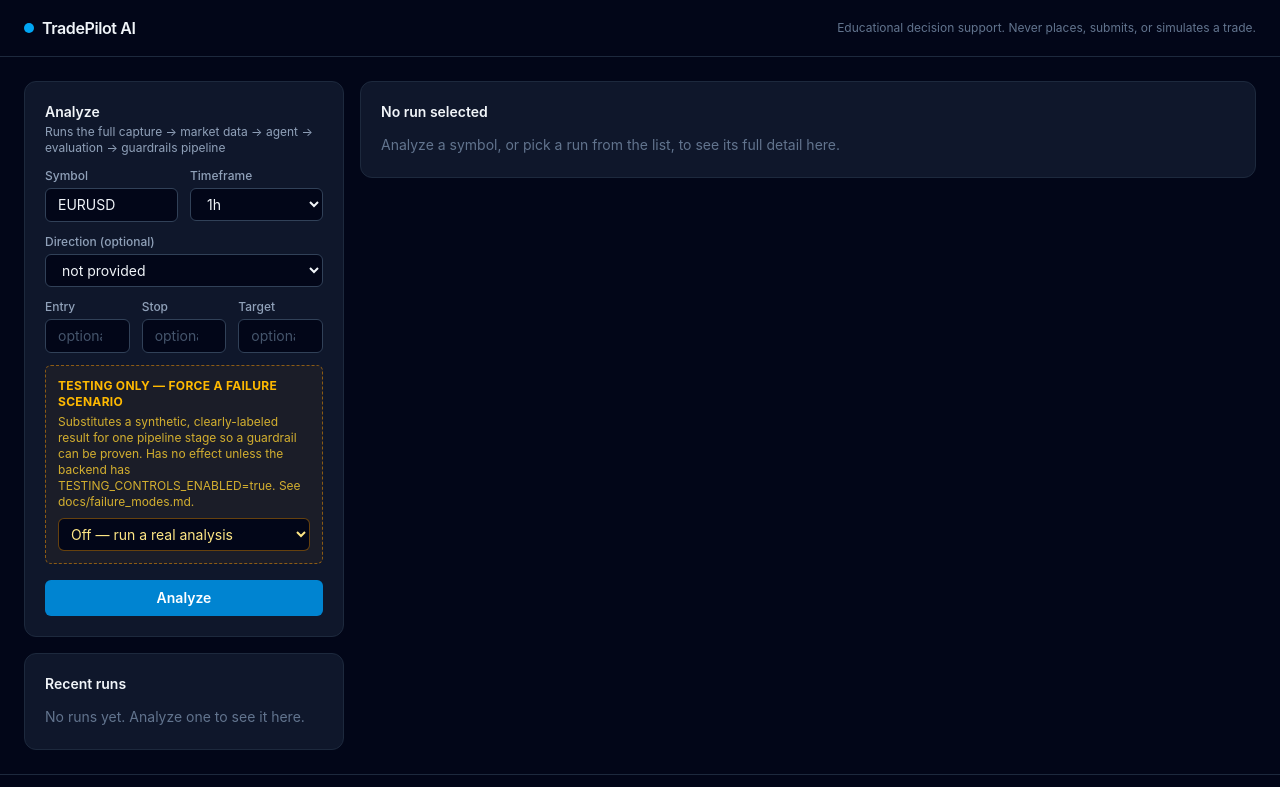
Scenario: App › Milestone 12: choosing a testing scenario sends force_scenario and shows the unmistakable testing banner
Select "Capture fails" in the dropdown named "force a testing scenario". click: (184, 534)
box: x1=58 y1=518 x2=310 y2=551
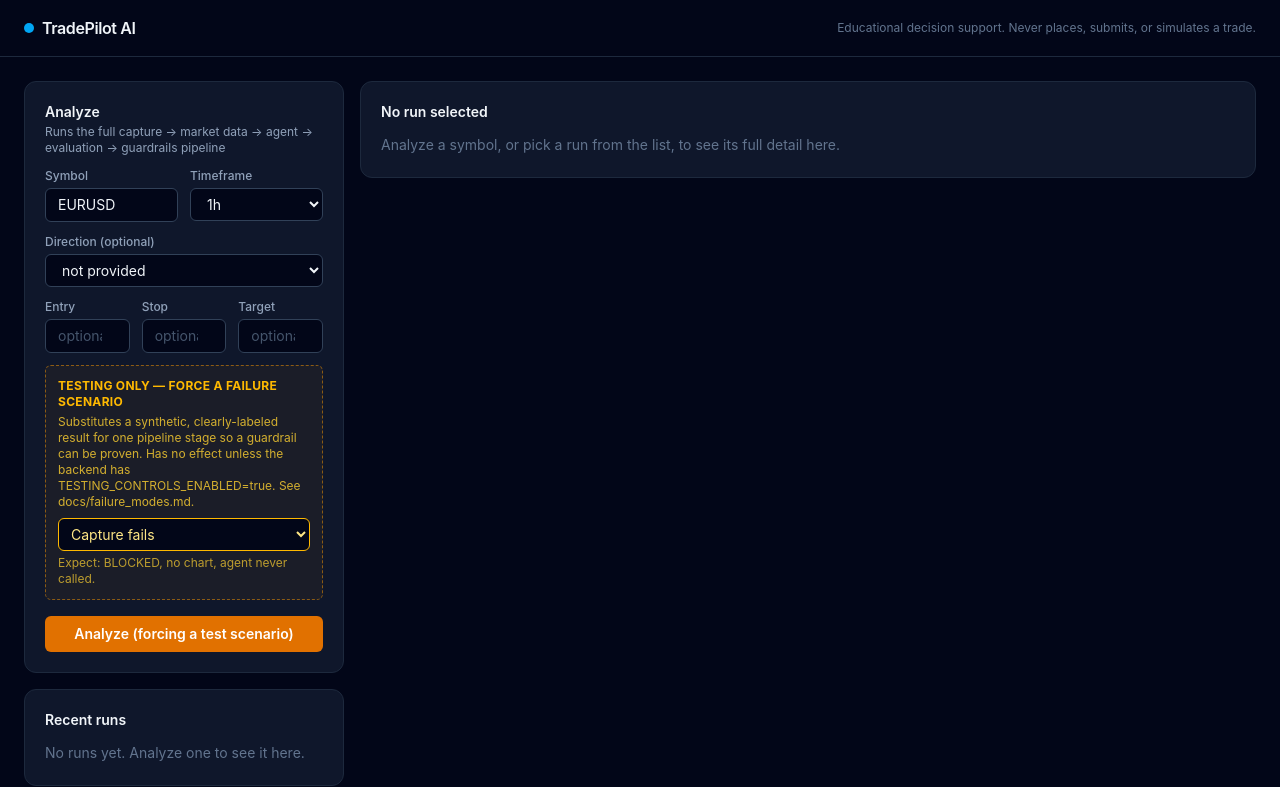
Click the button "Analyze (forcing a test scenario)". click: (184, 634)
box: x1=45 y1=616 x2=323 y2=652
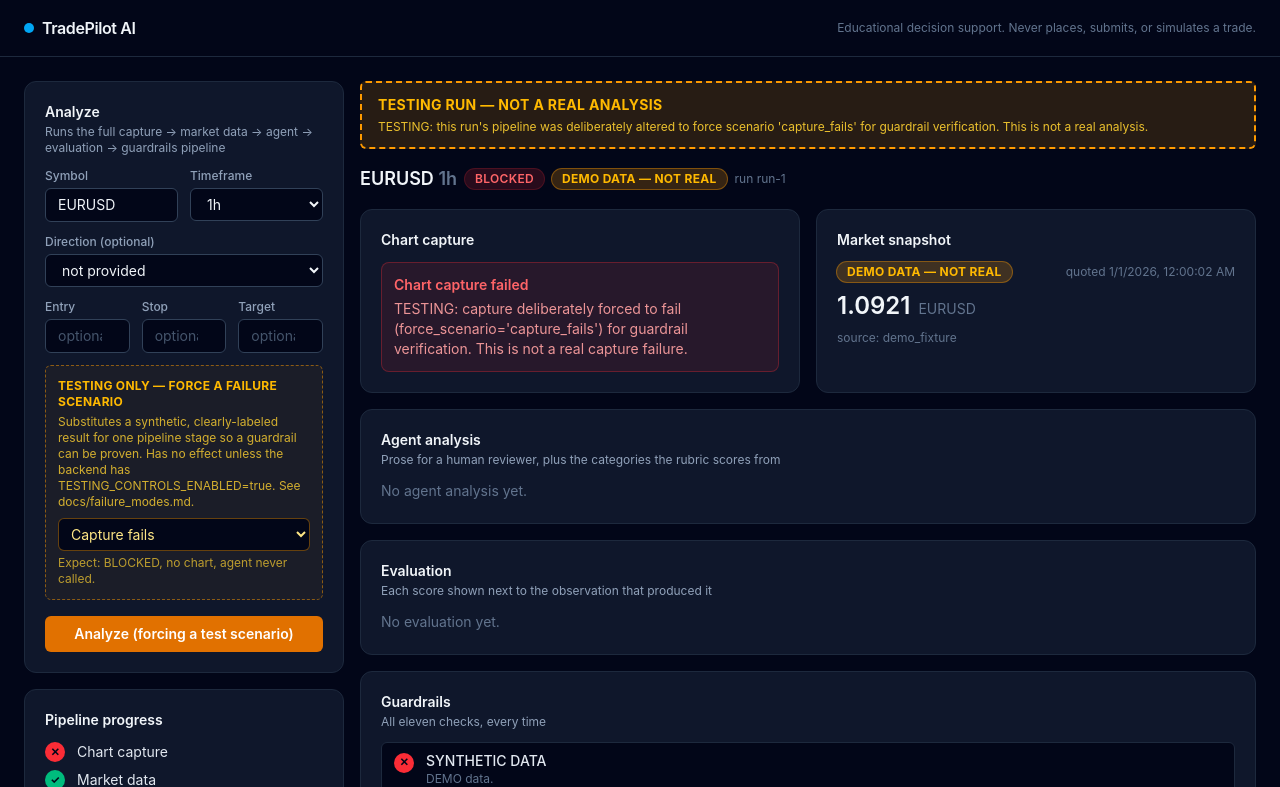
Expected: the text "Testing run — not a real analysis" is shown, x1=378 y1=96 x2=663 y2=113
Expected: the text "capture deliberately forced to fail" is shown, x1=394 y1=300 x2=688 y2=357
